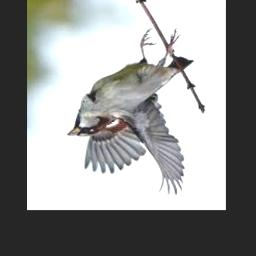Sparrow: (67, 29, 193, 196)
